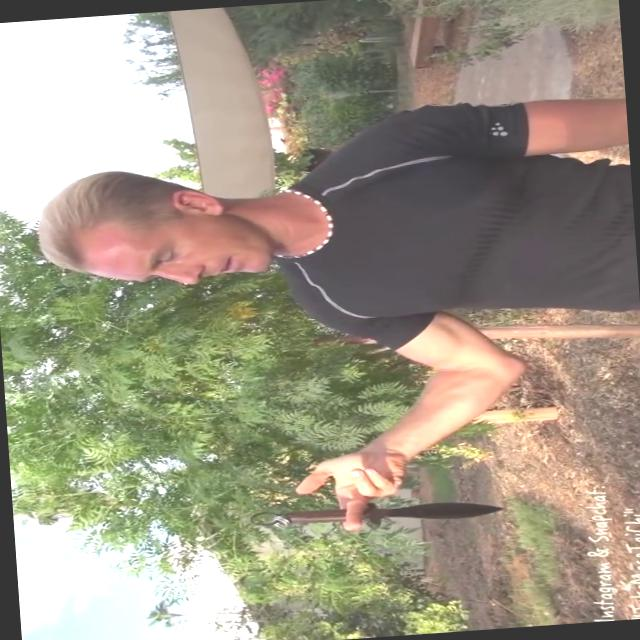knife: (232, 478, 513, 550)
